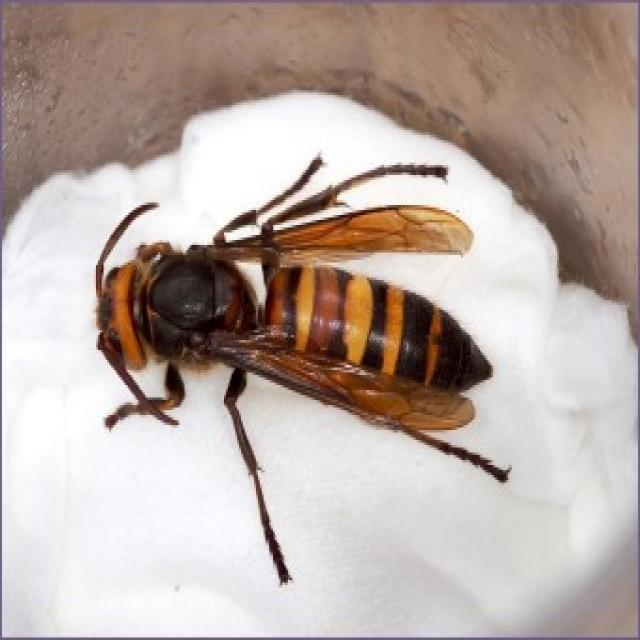Wasp: (78, 143, 516, 591)
